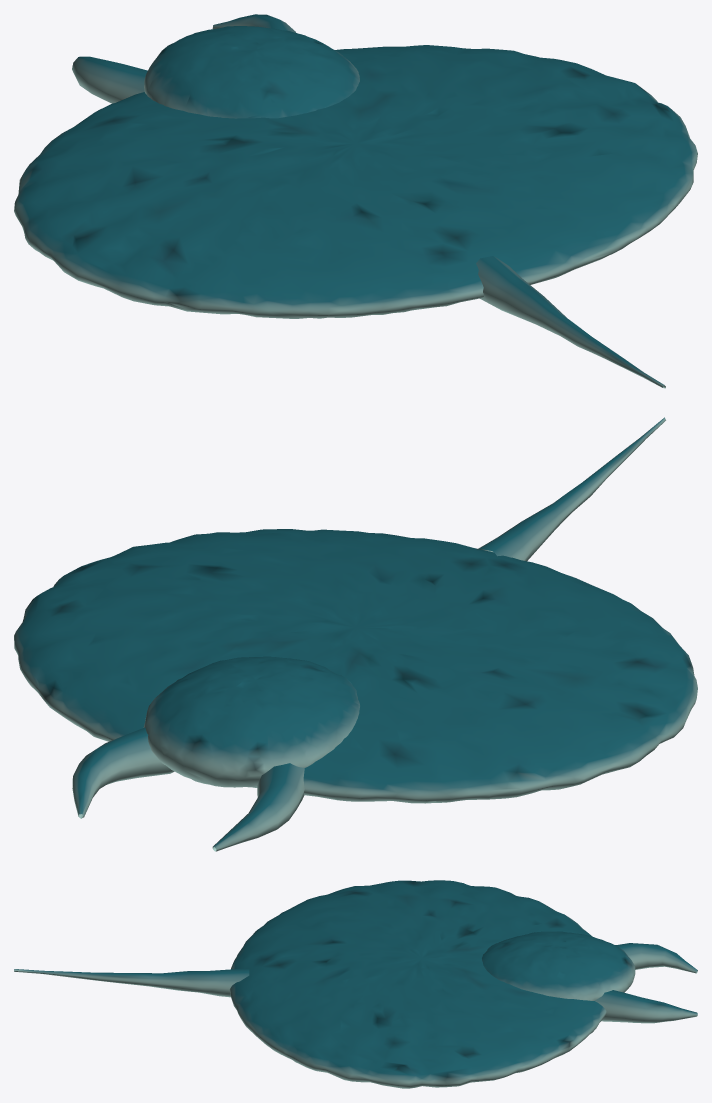
Rendered from drovani_cruiser.glb.
3 views of the same model, one above another, from view 1: azimuth 30°, elevation 25°; view 2: azimuth 150°, elevation 25°; view 3: azimuth 270°, elevation 25° (orthographic). The views are drawn at different scales.
Visible parts, largest first — view 1: drovani_cruiser; view 2: drovani_cruiser; view 3: drovani_cruiser.
Boxes of the visible parts, bbox=[...] form: drovani_cruiser: bbox=[14, 14, 697, 388]; drovani_cruiser: bbox=[14, 417, 697, 851]; drovani_cruiser: bbox=[14, 880, 697, 1088].
Bounding box in the file's own units: 6.86 × 1.05 × 10.
